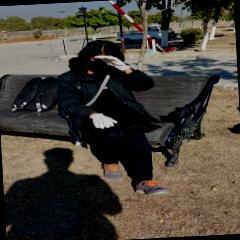gloved: (94, 54, 130, 74), (88, 114, 118, 130)
